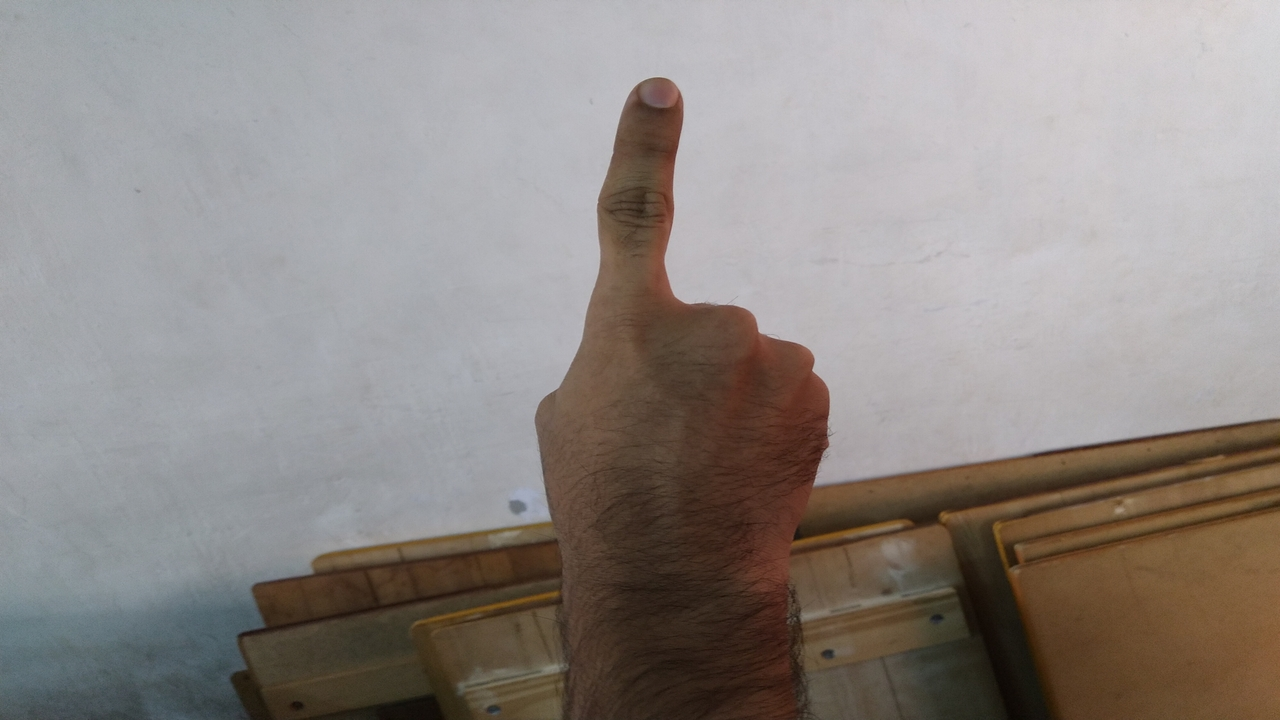fingertip: (618, 74, 686, 128)
